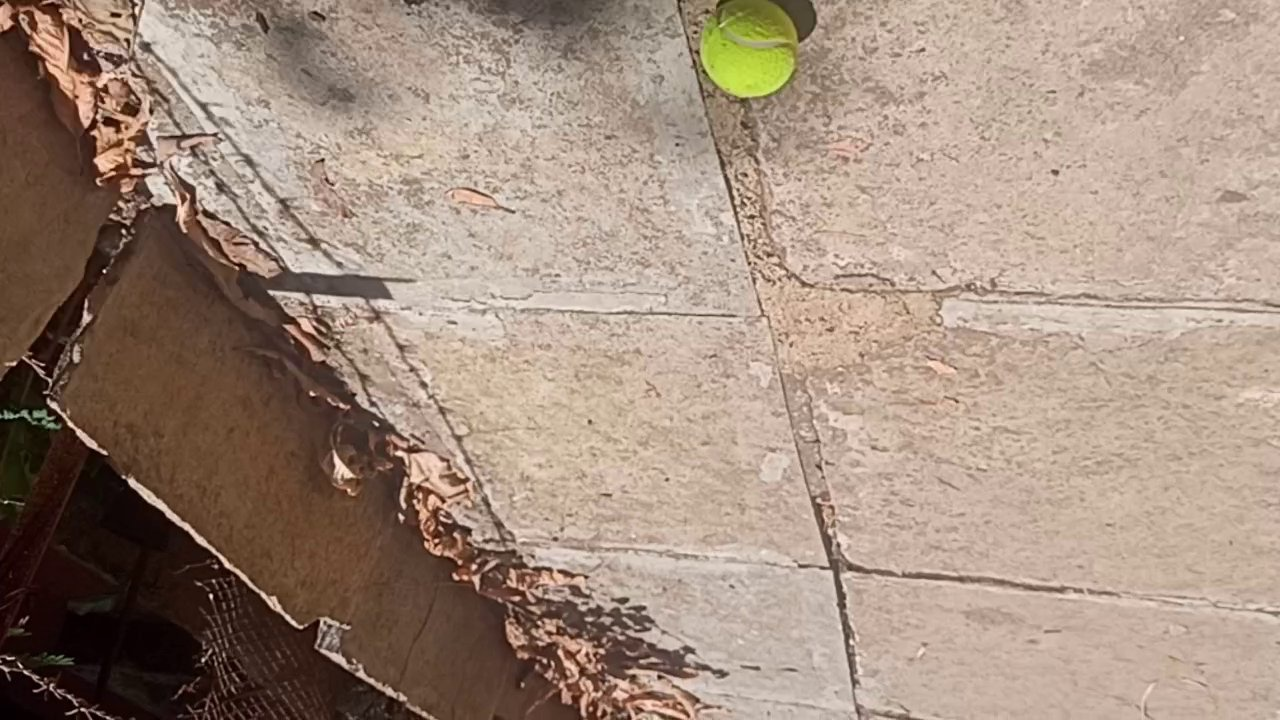Tennis-Ball: (700, 1, 798, 96)
